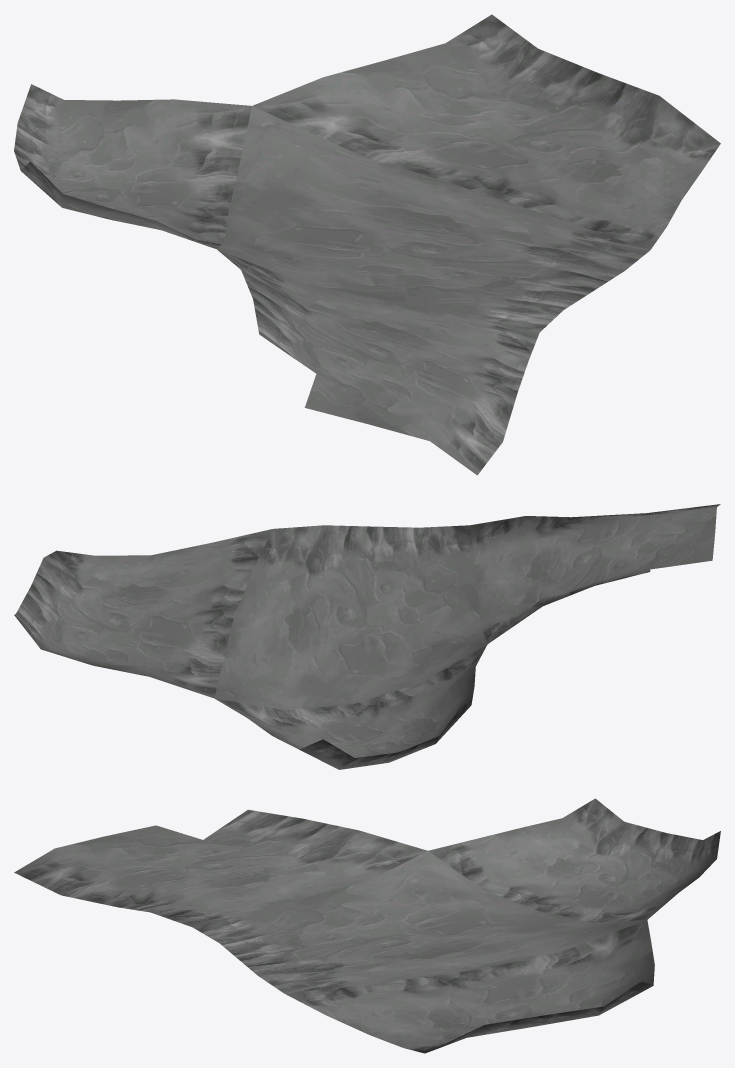
Rendered from SWORDLIGHT20_PS-AREA03_150.fbx.
The picture shows the model from 3 angles, top to bottom: view 1: azimuth 30°, elevation 25°; view 2: azimuth 150°, elevation 25°; view 3: azimuth 270°, elevation 25°; orthographic projection. The views are drawn at different scales.
Visible parts, largest first — view 1: SWORDLIGHT20_PS-AREA03_150; view 2: SWORDLIGHT20_PS-AREA03_150; view 3: SWORDLIGHT20_PS-AREA03_150.
Boxes of the visible parts, box(x1,y1,x2,y2) form: SWORDLIGHT20_PS-AREA03_150: box(14, 14, 720, 475); SWORDLIGHT20_PS-AREA03_150: box(14, 504, 720, 769); SWORDLIGHT20_PS-AREA03_150: box(14, 798, 720, 1053).
Bounding box in the file's own units: 137381 × 15903 × 183416.
Materials: 3 (3 with a texture image).
